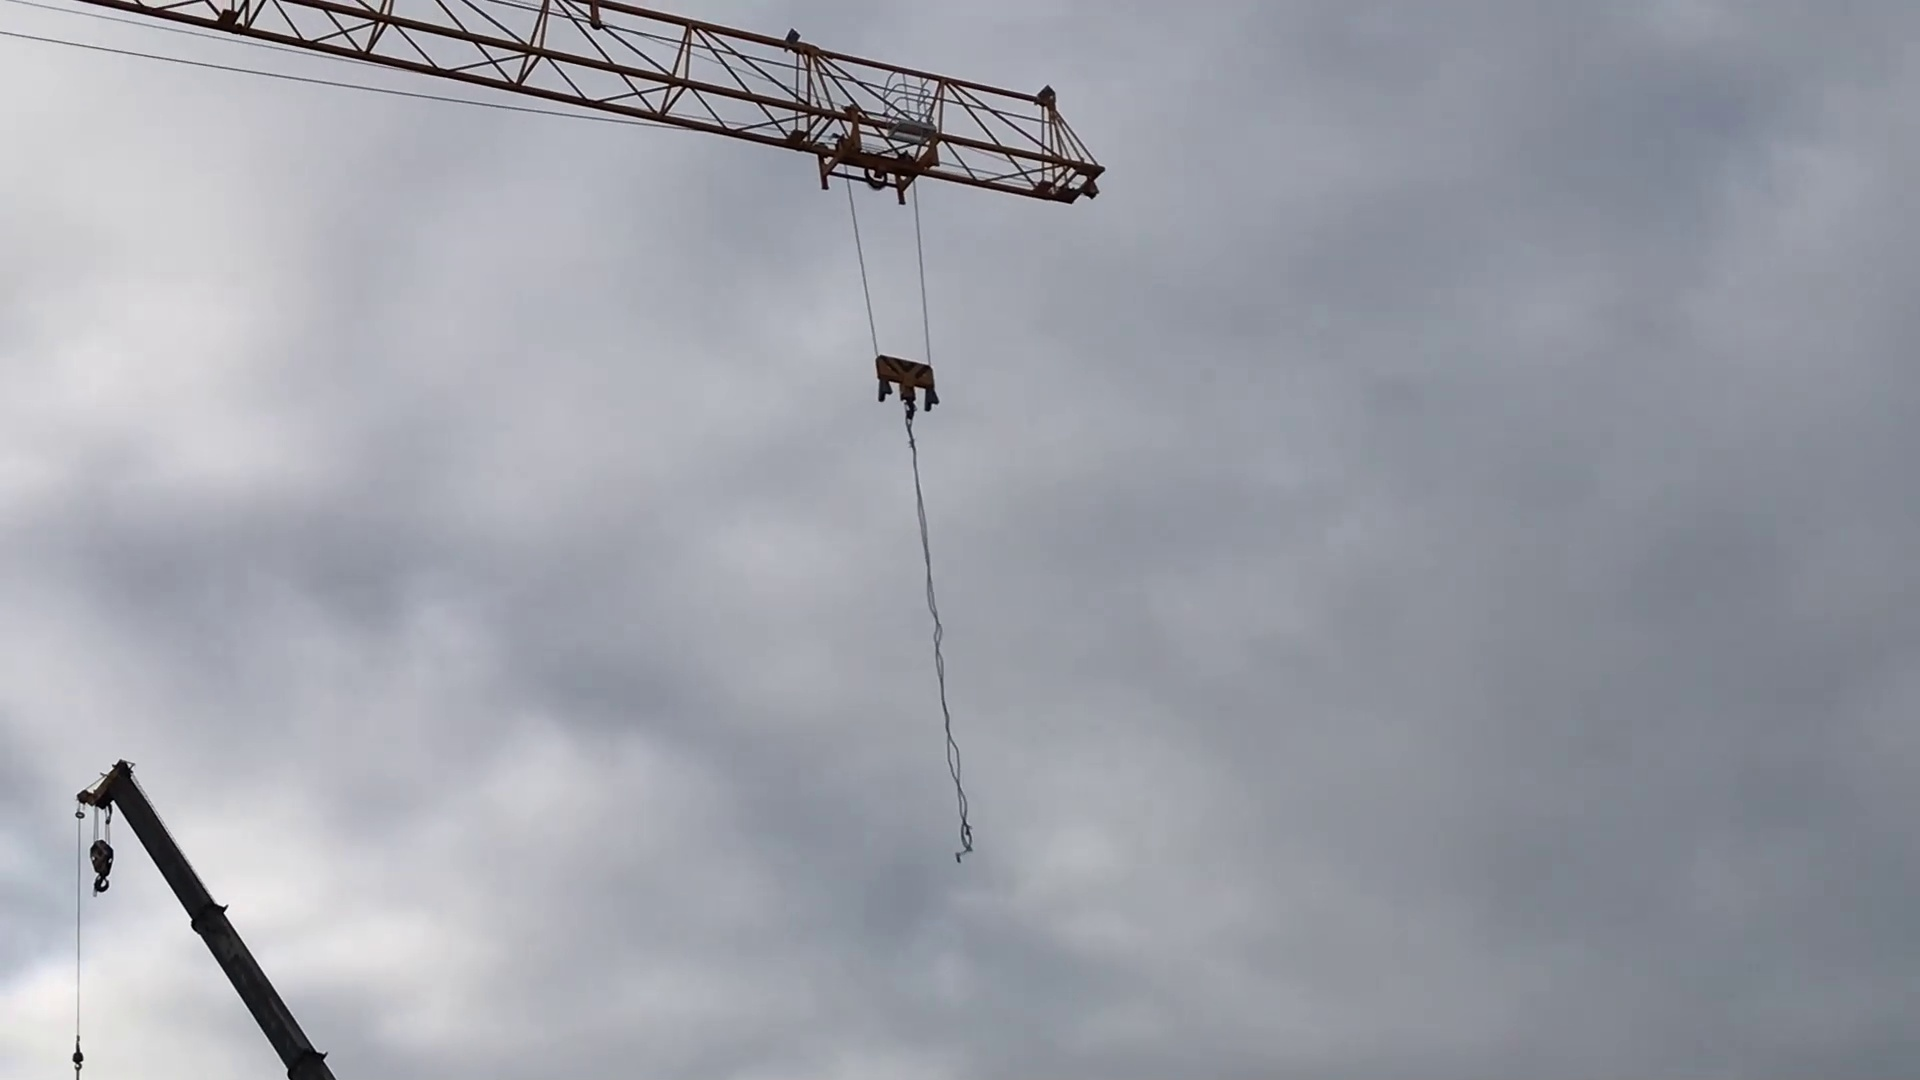hook: (866, 349, 944, 413)
